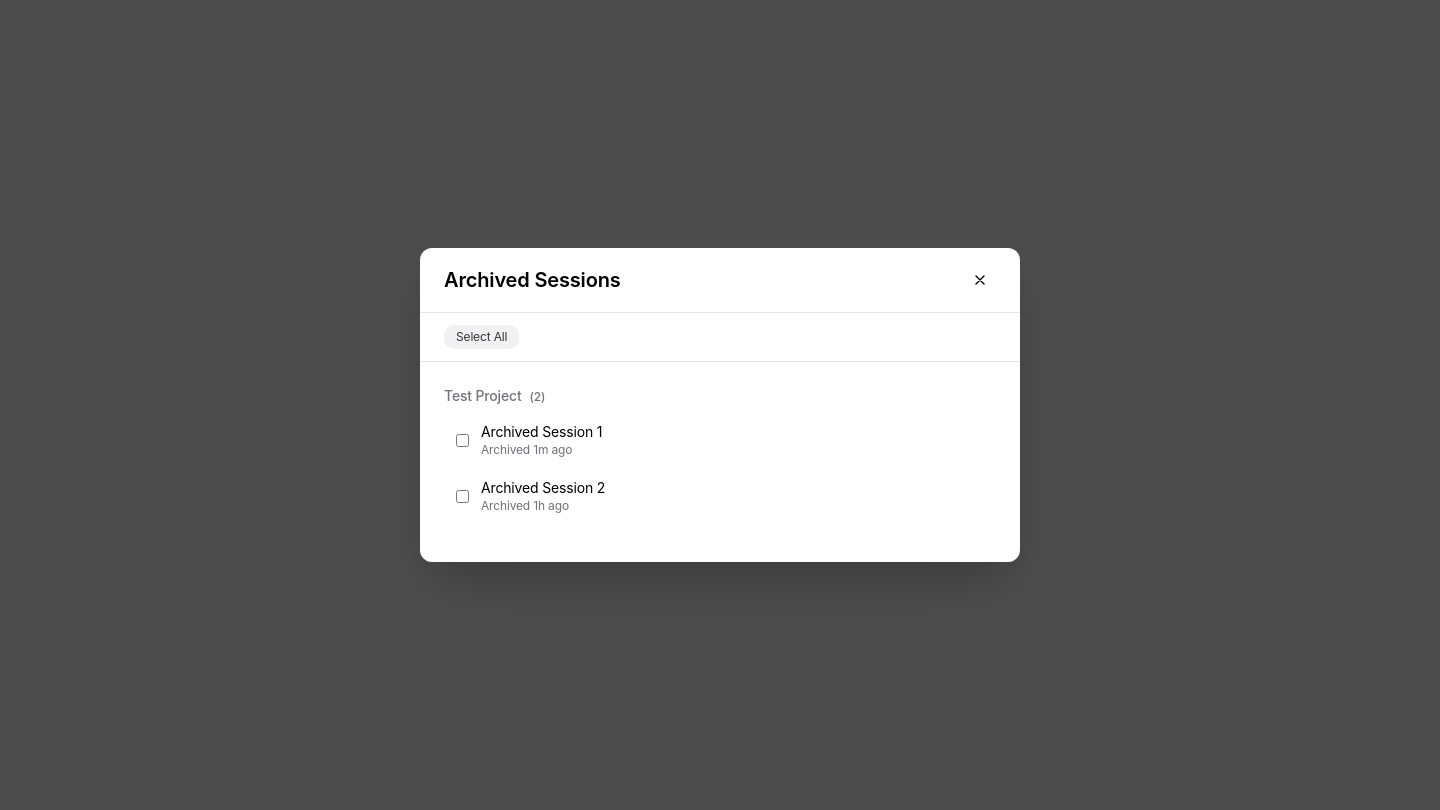
ArchivedSessionsDialog › shows "{n} selected" counter
Expected: the text "Archived Session 1" is shown, [481,423,602,440]
Step 1. Click the checkbox next to "Archived Session 1" → (462, 440), box [456,434,469,446]
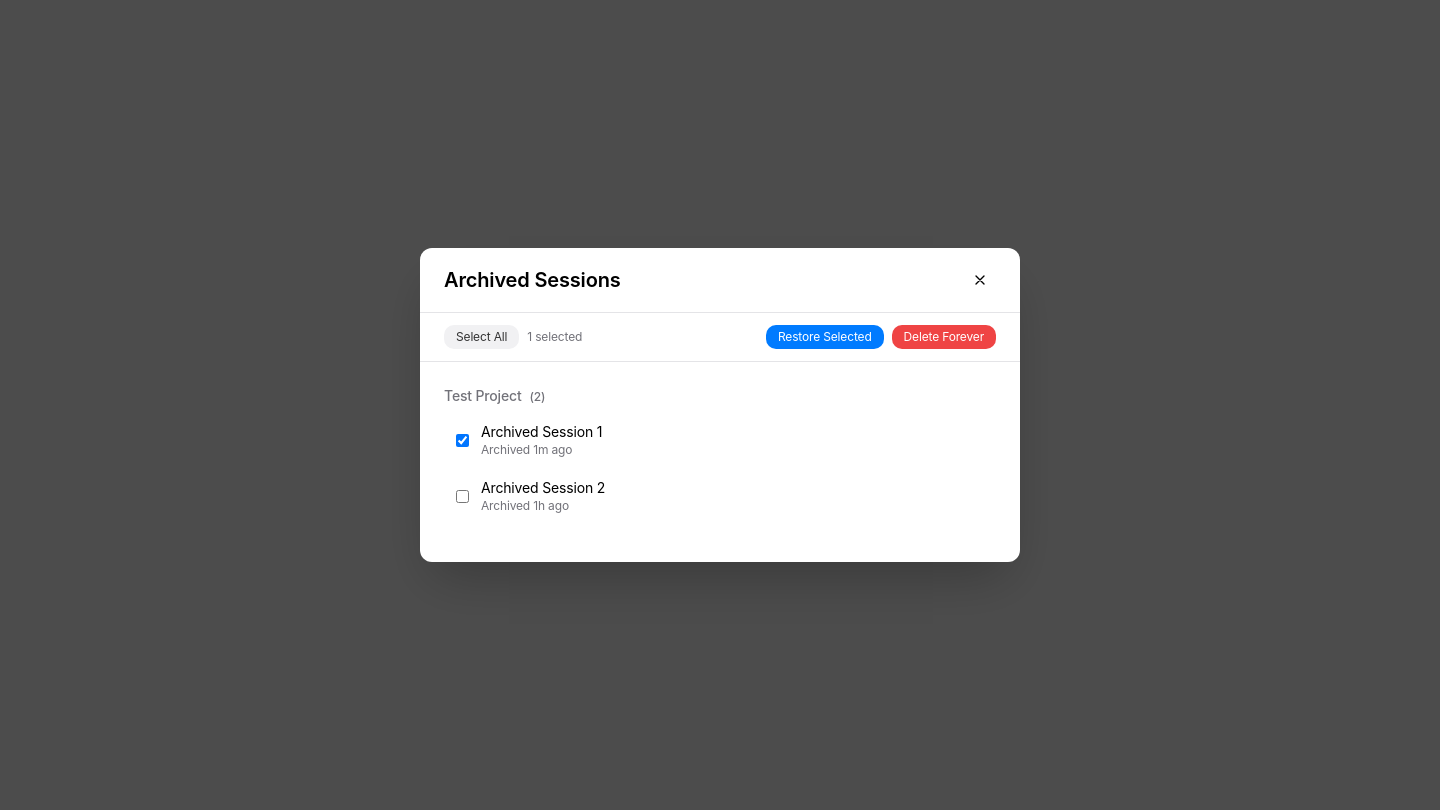
Expected: the text "1 selected" is shown, [527,325,582,349]
Step 2. Click the checkbox next to "Archived Session 2" → (462, 496), box [456,490,469,502]
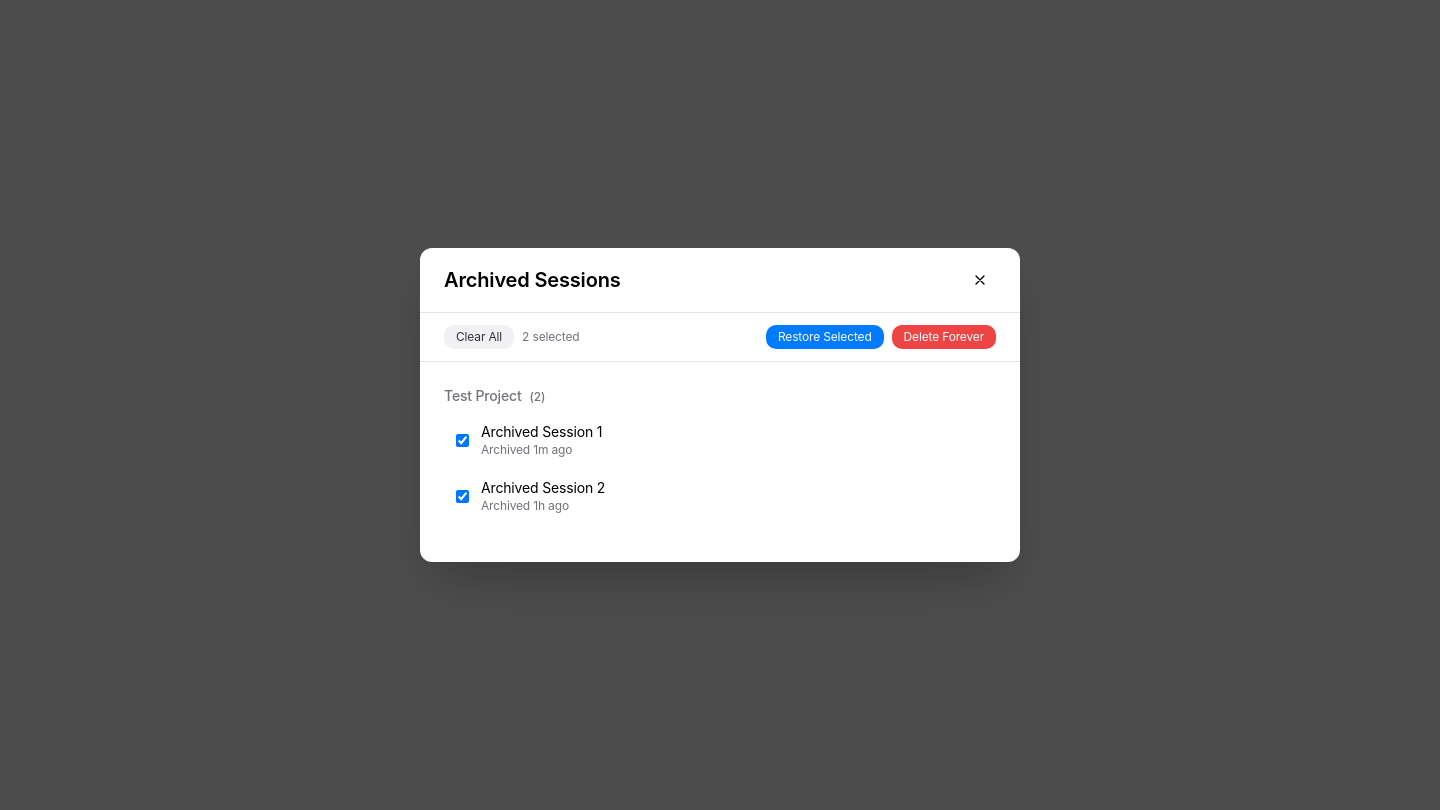
Expected: the text "2 selected" is shown, [522,325,580,349]
